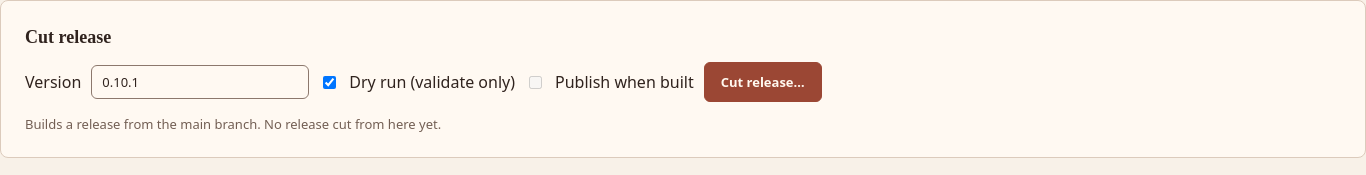
it: Cut release › starts as a dry run with publish off and disabled, and needs a valid version
Replace the text in the field with test id "cut-version" with "latest" at x=200, y=82, box [91,65,309,99]
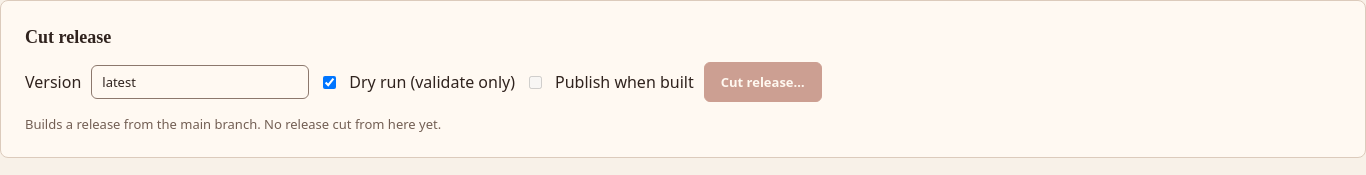
Check: the checkbox with test id "cut-dry-run" is checked, box [323,76,336,88]
Check: the button with test id "cut-release-open" is disabled, box [704,62,822,102]
Replace the text in the field with test id "cut-version" with "0.10.0" at x=200, y=82, box [91,65,309,99]
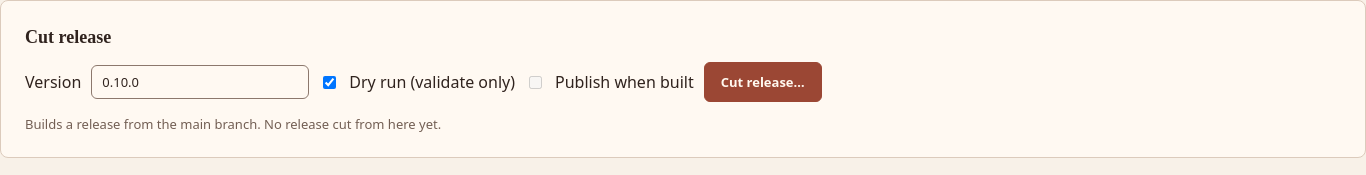
Check: the button with test id "cut-release-open" is enabled, box [704,62,822,102]
